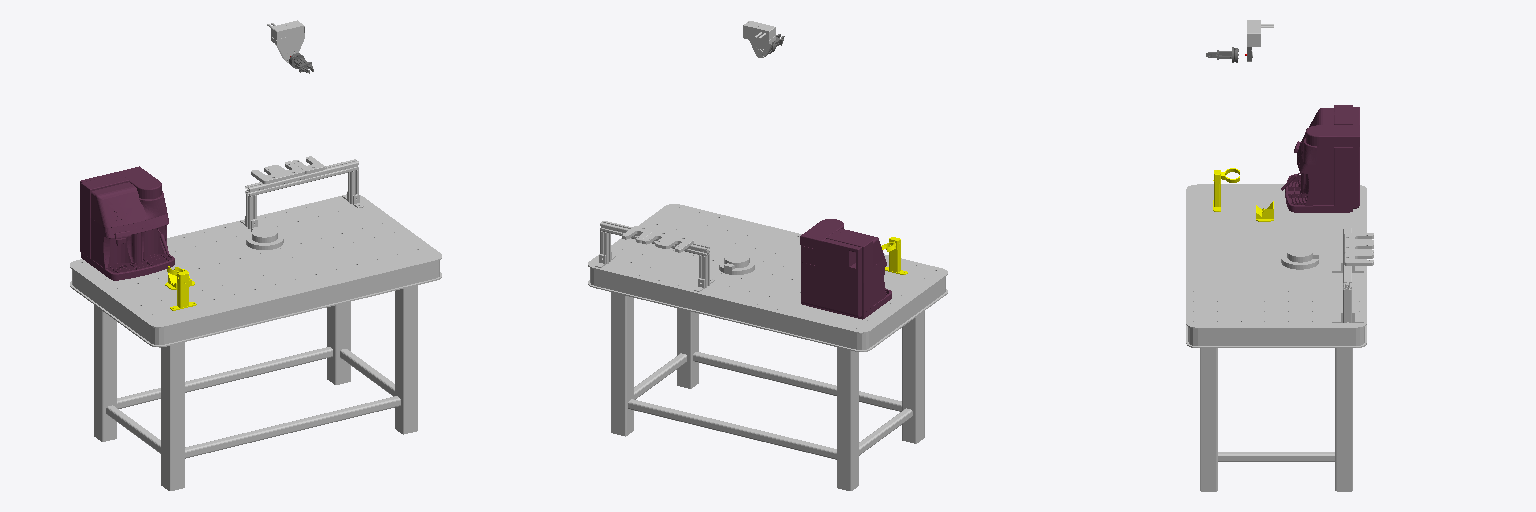
The robot description file, URDF, robot "aubo_e5":
<?xml version="1.0" ?>
<!-- =================================================================================== -->
<!-- |    This document was autogenerated by xacro from /home/mu/IVG2.0/aubo_ros2_ws/src/aubo_ros2_driver/aubo_moveit_config/config/aubo_e5.urdf.xacro | -->
<!-- |    EDITING THIS FILE BY HAND IS NOT RECOMMENDED                                 | -->
<!-- =================================================================================== -->
<robot name="aubo_e5">
  <!-- ===== 机械臂本体 (6-DOF) ===== -->
  <link name="base_link">
    <inertial>
      <origin rpy="0 0 0" xyz="-1.4795E-13 0.0015384 0.020951"/>
      <mass value="0.83419"/>
      <inertia ixx="0.0014414" ixy="7.8809E-15" ixz="8.5328E-16" iyy="0.0013542" iyz="-1.4364E-05" izz="0.0024659"/>
    </inertial>
    <visual>
      <origin rpy="0 0 0" xyz="0 0 0"/>
      <geometry>
        <mesh filename="package://aubo_description/meshes/visual/link0.dae"/>
      </geometry>
      <material name="">
        <color rgba="0.82 0.82 0.82 1"/>
      </material>
    </visual>
    <collision>
      <origin rpy="0 0 0" xyz="0 0 0"/>
      <geometry>
        <mesh filename="package://aubo_description/meshes/collision/link0.stl"/>
      </geometry>
    </collision>
  </link>
  <link name="shoulder_Link">
    <inertial>
      <origin rpy="0 0 0" xyz="0 0.0038 0.0006"/>
      <mass value="5.05"/>
      <inertia ixx="0.0148" ixy="0" ixz="0" iyy="0.0143" iyz="0" izz="0.0095"/>
    </inertial>
    <visual>
      <origin rpy="0 0 0" xyz="0 0 0"/>
      <geometry>
        <mesh filename="package://aubo_description/meshes/visual/link1.dae"/>
      </geometry>
      <material name="">
        <color rgba="0.82 0.82 0.82 1"/>
      </material>
    </visual>
    <collision>
      <origin rpy="0 0 0" xyz="0 0 0"/>
      <geometry>
        <mesh filename="package://aubo_description/meshes/collision/link1.stl"/>
      </geometry>
    </collision>
  </link>
  <joint name="shoulder_joint" type="revolute">
    <origin rpy="0 0 3.1415926535897932384626433832795" xyz="0 0 0.122"/>
    <parent link="base_link"/>
    <child link="shoulder_Link"/>
    <axis xyz="0 0 1"/>
    <limit effort="133" lower="-3.054326190990076759616458844855" start_stop="207" upper="3.054326190990076759616458844855" velocity="2.5964"/>
  </joint>
  <link name="upperArm_Link">
    <inertial>
      <origin rpy="0 0 0" xyz="0.2040 0 0.0196"/>
      <mass value="11.28"/>
      <inertia ixx="0.0305" ixy="0" ixz="0" iyy="0.4505" iyz="0" izz="0.4400"/>
    </inertial>
    <visual>
      <origin rpy="0 0 0" xyz="0 0 0"/>
      <geometry>
        <mesh filename="package://aubo_description/meshes/visual/link2.dae"/>
      </geometry>
      <material name="">
        <color rgba="0.82 0.82 0.82 1"/>
      </material>
    </visual>
    <collision>
      <origin rpy="0 0 0" xyz="0 0 0"/>
      <geometry>
        <mesh filename="package://aubo_description/meshes/collision/link2.stl"/>
      </geometry>
    </collision>
  </link>
  <joint name="upperArm_joint" type="revolute">
    <origin rpy="-1.5707963267948966192313216916398 -1.5707963267948966192313216916398 0" xyz="0 0.1215 0"/>
    <parent link="shoulder_Link"/>
    <child link="upperArm_Link"/>
    <axis xyz="0 0 1"/>
    <limit effort="133" lower="-3.054326190990076759616458844855" start_stop="207" upper="3.054326190990076759616458844855" velocity="2.5964"/>
  </joint>
  <link name="foreArm_Link">
    <inertial>
      <origin rpy="0 0 0" xyz="0.2699 0 0.0992"/>
      <mass value="2.88"/>
      <inertia ixx="0.0033" ixy="0" ixz="0" iyy="0.0575" iyz="0" izz="0.0565"/>
    </inertial>
    <visual>
      <origin rpy="0 0 0" xyz="0 0 0"/>
      <geometry>
        <mesh filename="package://aubo_description/meshes/visual/link3.dae"/>
      </geometry>
      <material name="">
        <color rgba="0.82 0.82 0.82 1"/>
      </material>
    </visual>
    <collision>
      <origin rpy="0 0 0" xyz="0 0 0"/>
      <geometry>
        <mesh filename="package://aubo_description/meshes/collision/link3.stl"/>
      </geometry>
    </collision>
  </link>
  <joint name="foreArm_joint" type="revolute">
    <origin rpy="-3.1415926535897932384626433832795 0 0" xyz="0.408 0 0"/>
    <parent link="upperArm_Link"/>
    <child link="foreArm_Link"/>
    <axis xyz="0 0 1"/>
    <limit effort="133" lower="-3.054326190990076759616458844855" start_stop="207" upper="3.054326190990076759616458844855" velocity="2.5964"/>
  </joint>
  <link name="wrist1_Link">
    <inertial>
      <origin rpy="0 0 0" xyz="0 -0.0997 -0.0780"/>
      <mass value="1.62"/>
      <inertia ixx="0.0023" ixy="0" ixz="0" iyy="0.0013" iyz="0" izz="0.0022"/>
    </inertial>
    <visual>
      <origin rpy="0 0 0" xyz="0 0 0"/>
      <geometry>
        <mesh filename="package://aubo_description/meshes/visual/link4.dae"/>
      </geometry>
      <material name="">
        <color rgba="0.82 0.82 0.82 1"/>
      </material>
    </visual>
    <collision>
      <origin rpy="0 0 0" xyz="0 0 0"/>
      <geometry>
        <mesh filename="package://aubo_description/meshes/collision/link4.stl"/>
      </geometry>
    </collision>
  </link>
  <joint name="wrist1_joint" type="revolute">
    <origin rpy="3.1415926535897932384626433832795 0 1.5707963267948966192313216916398" xyz="0.376 0 0"/>
    <parent link="foreArm_Link"/>
    <child link="wrist1_Link"/>
    <axis xyz="0 0 1"/>
    <limit effort="13.5" lower="-3.054326190990076759616458844855" start_stop="34" upper="3.054326190990076759616458844855" velocity="3.1105"/>
  </joint>
  <link name="wrist2_Link">
    <inertial>
      <origin rpy="0 0 0" xyz="0 -0.0028 -0.0030"/>
      <mass value="1.62"/>
      <inertia ixx="0.0023" ixy="0" ixz="0" iyy="0.0013" iyz="0" izz="0.0022"/>
    </inertial>
    <visual>
      <origin rpy="0 0 0" xyz="0 0 0"/>
      <geometry>
        <mesh filename="package://aubo_description/meshes/visual/link5.dae"/>
      </geometry>
      <material name="">
        <color rgba="0.82 0.82 0.82 1"/>
      </material>
    </visual>
    <collision>
      <origin rpy="0 0 0" xyz="0 0 0"/>
      <geometry>
        <mesh filename="package://aubo_description/meshes/collision/link5.stl"/>
      </geometry>
    </collision>
  </link>
  <joint name="wrist2_joint" type="revolute">
    <origin rpy="-1.5707963267948966192313216916398 0 0" xyz="0 0.1025 0"/>
    <parent link="wrist1_Link"/>
    <child link="wrist2_Link"/>
    <axis xyz="0 0 1"/>
    <limit effort="13.5" lower="-3.054326190990076759616458844855" start_stop="34" upper="3.054326190990076759616458844855" velocity="3.1105"/>
  </joint>
  <link name="wrist3_Link">
    <inertial>
      <origin rpy="0 0 0" xyz="0 0 -0.0442"/>
      <mass value="0.5"/>
      <inertia ixx="0.00139395" ixy="0" ixz="0" iyy="0.00139882" iyz="0" izz="0.00224092"/>
    </inertial>
    <visual>
      <origin rpy="0 0 0" xyz="0 0 0"/>
      <geometry>
        <mesh filename="package://aubo_description/meshes/visual/link6.dae"/>
      </geometry>
      <material name="">
        <color rgba="0.82 0.82 0.82 1"/>
      </material>
    </visual>
    <collision>
      <origin rpy="0 0 0" xyz="0 0 0"/>
      <geometry>
        <mesh filename="package://aubo_description/meshes/collision/link6.stl"/>
      </geometry>
    </collision>
  </link>
  <joint name="wrist3_joint" type="revolute">
    <origin rpy="1.5707963267948966192313216916398 0 1.7907E-15" xyz="0 -0.094 0"/>
    <parent link="wrist2_Link"/>
    <child link="wrist3_Link"/>
    <axis xyz="0 0 1"/>
    <limit effort="13.5" lower="-3.054326190990076759616458844855" start_stop="34" upper="3.054326190990076759616458844855" velocity="3.1105"/>
  </joint>
  <link name="world"/>
  <!-- ===== 底座（咖啡机总装模型 pedestal_Link） ===== -->
  <link name="pedestal_Link">
    <inertial>
      <origin rpy="0 0 0" xyz="0.0024005 -0.14873 -0.0020194"/>
      <mass value="180.93"/>
      <inertia ixx="10.702" ixy="6.7618E-17" ixz="3.0187E-14" iyy="41.01" iyz="1.466E-07" izz="32.457"/>
    </inertial>
    <visual>
      <origin rpy="0 0 0" xyz="0 0 0"/>
      <geometry>
        <mesh filename="package://tool_changer/meshes/visual/pedestal_link.stl"/>
      </geometry>
      <material name="">
        <color rgba="0.82 0.82 0.82 1"/>
      </material>
    </visual>
    <collision>
      <origin rpy="0 0 0" xyz="0 0 0"/>
      <geometry>
        <mesh filename="package://tool_changer/meshes/collision/pedestal_link.stl"/>
      </geometry>
    </collision>
  </link>
  <joint name="world_to_pedestal" type="fixed">
    <parent link="world"/>
    <child link="pedestal_Link"/>
    <origin rpy="0.0 0.0 0.0" xyz="0.0 0.0 0.0"/>
  </joint>
  <joint name="base_joint" type="fixed">
    <origin rpy="0 0 0" xyz="0.10483 0.10483 0.028"/>
    <parent link="pedestal_Link"/>
    <child link="base_link"/>
  </joint>
  <!-- ===== 咖啡机总装模型配件 ===== -->
  <link name="cup0_Link">
    <inertial>
      <origin rpy="0 0 0" xyz="0.0459046653140415 0.0335578409178754 0.00298286778797363"/>
      <mass value="1.42763211505643"/>
      <inertia ixx="0.00133864759857838" ixy="-0.000153798571779387" ixz="-3.31742934007893E-05" iyy="0.00208448111254178" iyz="-3.67284842420613E-05" izz="0.0011896985575748"/>
    </inertial>
    <visual>
      <origin rpy="0 0 0" xyz="0 0 0"/>
      <geometry>
        <mesh filename="package://tool_changer/meshes/visual/cup0_link.stl"/>
      </geometry>
      <material name="">
        <color rgba="1 1 0 1"/>
      </material>
    </visual>
    <collision>
      <origin rpy="0 0 0" xyz="0 0 0"/>
      <geometry>
        <mesh filename="package://tool_changer/meshes/collision/cup0_link.stl"/>
      </geometry>
    </collision>
  </link>
  <joint name="cup0_joint" type="fixed">
    <origin rpy="1.5708 0 1.5708" xyz="-0.4225 -0.0925 -0.012"/>
    <parent link="pedestal_Link"/>
    <child link="cup0_Link"/>
  </joint>
  <link name="lizhu_Link">
    <inertial>
      <origin rpy="0 0 0" xyz="0.012277 0.082104 1.7053E-05"/>
      <mass value="0.86598"/>
      <inertia ixx="0.0014347" ixy="1.5778E-05" ixz="1.1895E-08" iyy="0.00066764" iyz="3.1238E-05" izz="0.0012088"/>
    </inertial>
    <visual>
      <origin rpy="0 0 0" xyz="0 0 0"/>
      <geometry>
        <mesh filename="package://tool_changer/meshes/visual/lizhu_link.stl"/>
      </geometry>
      <material name="">
        <color rgba="1 1 0 1"/>
      </material>
    </visual>
    <collision>
      <origin rpy="0 0 0" xyz="0 0 0"/>
      <geometry>
        <mesh filename="package://tool_changer/meshes/collision/lizhu_link.stl"/>
      </geometry>
    </collision>
  </link>
  <joint name="lizhu_joint" type="fixed">
    <origin rpy="1.5708 0 1.5708" xyz="-0.525 -0.2625 0.006"/>
    <parent link="pedestal_Link"/>
    <child link="lizhu_Link"/>
  </joint>
  <link name="coffee_Link">
    <inertial>
      <origin rpy="0 0 0" xyz="0.01588 0.20584 0.0021911"/>
      <mass value="91.454"/>
      <inertia ixx="0.89876" ixy="0.0020091" ixz="-0.10749" iyy="1.0151" iyz="0.023803" izz="0.44104"/>
    </inertial>
    <visual>
      <origin rpy="0 0 0" xyz="0 0 0"/>
      <geometry>
        <mesh filename="package://tool_changer/meshes/visual/coffee_link.stl"/>
      </geometry>
      <material name="">
        <color rgba="0.42745 0.24706 0.35686 1"/>
      </material>
    </visual>
    <collision>
      <origin rpy="0 0 0" xyz="0 0 0"/>
      <geometry>
        <mesh filename="package://tool_changer/meshes/collision/coffee_link.stl"/>
      </geometry>
    </collision>
  </link>
  <joint name="coffee_joint" type="fixed">
    <origin rpy="1.5708 0 1.5708" xyz="-0.53995 0.20318 0.046"/>
    <parent link="pedestal_Link"/>
    <child link="coffee_Link"/>
  </joint>
  <!-- ===== 末端执行器: 相机 ===== -->
  <link name="camera_Link">
    <inertial>
      <origin rpy="0 0 0" xyz="-0.0005963 0.085972 -0.026401"/>
      <mass value="0.72743"/>
      <inertia ixx="0.00064649" ixy="2.7688E-06" ixz="-2.0272E-05" iyy="0.0013072" iyz="8.2399E-05" izz="0.0014971"/>
    </inertial>
    <visual>
      <origin rpy="0 0 0" xyz="0 0 0"/>
      <geometry>
        <mesh filename="package://tool_changer/meshes/visual/camera_link.stl"/>
      </geometry>
      <material name="">
        <color rgba="0.82 0.82 0.82 1"/>
      </material>
    </visual>
    <collision>
      <origin rpy="0 0 0" xyz="0 0 0"/>
      <geometry>
        <mesh filename="package://tool_changer/meshes/collision/camera_link.stl"/>
      </geometry>
    </collision>
  </link>
  <joint name="camera_joint" type="fixed">
    <origin rpy="0.0 0.0 0.0" xyz="0.0 0.0 0.020"/>
    <parent link="wrist3_Link"/>
    <child link="camera_Link"/>
  </joint>
  <!-- ===== 末端执行器: 快换法兰 ===== -->
  <link name="kuaihuan_Link">
    <inertial>
      <origin rpy="0 0 0" xyz="-0.00074639 7.4616E-05 0.0097884"/>
      <mass value="0.21939"/>
      <inertia ixx="6.3771E-05" ixy="4.2875E-07" ixz="-1.7848E-07" iyy="6.9403E-05" iyz="-4.5085E-07" izz="0.0001149"/>
    </inertial>
    <visual>
      <origin rpy="0 0 0" xyz="0 0 0"/>
      <geometry>
        <mesh filename="package://tool_changer/meshes/visual/kuaihuan_link.stl"/>
      </geometry>
      <material name="">
        <color rgba="0.82 0.82 0.82 1"/>
      </material>
    </visual>
    <collision>
      <origin rpy="0 0 0" xyz="0 0 0"/>
      <geometry>
        <mesh filename="package://tool_changer/meshes/collision/kuaihuan_link.stl"/>
      </geometry>
    </collision>
  </link>
  <joint name="kuaihuan_joint" type="fixed">
    <origin rpy="0 0 3.1416" xyz="0 0 0.0215"/>
    <parent link="camera_Link"/>
    <child link="kuaihuan_Link"/>
  </joint>
  <link name="gripper0_Link">
    <visual>
      <origin rpy="0 0 0" xyz="0 0 0"/>
      <geometry>
        <mesh filename="package://tool_changer/meshes/visual/gripper0_link.stl"/>
      </geometry>
      <material name="gripper0_material">
        <color rgba="0.5 0.5 0.5 1.0"/>
      </material>
    </visual>
    <collision>
      <origin rpy="0 0 0" xyz="0 0 0"/>
      <geometry>
        <mesh filename="package://tool_changer/meshes/collision/gripper0_link.stl"/>
      </geometry>
    </collision>
  </link>
  <joint name="kuaihuan_to_gripper0" type="fixed">
    <parent link="kuaihuan_Link"/>
    <child link="gripper0_Link"/>
    <origin rpy="0 0 0" xyz="0 0 0.02"/>
  </joint>
  <!-- Tool Center Point -->
  <link name="tool_tcp">
    <visual>
      <origin rpy="0 0 0" xyz="0 0 0"/>
      <geometry>
        <sphere radius="0.005"/>
      </geometry>
      <material name="tcp_marker">
        <color rgba="1.0 0.0 0.0 1.0"/>
      </material>
    </visual>
  </link>
  <joint name="wrist3_to_tcp" type="fixed">
    <parent link="wrist3_Link"/>
    <child link="tool_tcp"/>
    <origin rpy="0.0 0.0 0.0" xyz="0.0 0.0 0.0235"/>
  </joint>
  <transmission name="shoulder_joint_trans">
    <type>transmission_interface/SimpleTransmission</type>
    <joint name="shoulder_joint">
      <hardwareInterface>hardware_interface/PositionJointInterface</hardwareInterface>
    </joint>
    <actuator name="shoulder_joint_motor">
      <mechanicalReduction>1</mechanicalReduction>
    </actuator>
  </transmission>
  <transmission name="upperArm_joint_trans">
    <type>transmission_interface/SimpleTransmission</type>
    <joint name="upperArm_joint">
      <hardwareInterface>hardware_interface/PositionJointInterface</hardwareInterface>
    </joint>
    <actuator name="upperArm_joint_motor">
      <mechanicalReduction>1</mechanicalReduction>
    </actuator>
  </transmission>
  <transmission name="foreArm_joint_trans">
    <type>transmission_interface/SimpleTransmission</type>
    <joint name="foreArm_joint">
      <hardwareInterface>hardware_interface/PositionJointInterface</hardwareInterface>
    </joint>
    <actuator name="foreArm_joint_motor">
      <mechanicalReduction>1</mechanicalReduction>
    </actuator>
  </transmission>
  <transmission name="wrist1_joint_trans">
    <type>transmission_interface/SimpleTransmission</type>
    <joint name="wrist1_joint">
      <hardwareInterface>hardware_interface/PositionJointInterface</hardwareInterface>
    </joint>
    <actuator name="wrist1_joint_motor">
      <mechanicalReduction>1</mechanicalReduction>
    </actuator>
  </transmission>
  <transmission name="wrist2_joint_trans">
    <type>transmission_interface/SimpleTransmission</type>
    <joint name="wrist2_joint">
      <hardwareInterface>hardware_interface/PositionJointInterface</hardwareInterface>
    </joint>
    <actuator name="wrist2_joint_motor">
      <mechanicalReduction>1</mechanicalReduction>
    </actuator>
  </transmission>
  <transmission name="wrist3_joint_trans">
    <type>transmission_interface/SimpleTransmission</type>
    <joint name="wrist3_joint">
      <hardwareInterface>hardware_interface/PositionJointInterface</hardwareInterface>
    </joint>
    <actuator name="wrist3_joint_motor">
      <mechanicalReduction>1</mechanicalReduction>
    </actuator>
  </transmission>
  <ros2_control name="auboHardwareInterface" type="system">
    <hardware>
      <plugin>fake_components/GenericSystem</plugin>
      <param name="fake_sensor_commands">False</param>
      <param name="state_following_offset">0.0</param>
    </hardware>
    <joint name="shoulder_joint">
      <command_interface name="position">
        <param name="min">-3.05</param>
        <param name="max">3.05</param>
      </command_interface>
      <state_interface name="position"/>
      <state_interface name="velocity"/>
    </joint>
    <joint name="upperArm_joint">
      <command_interface name="position">
        <param name="min">-3.05</param>
        <param name="max">3.05</param>
      </command_interface>
      <state_interface name="position"/>
      <state_interface name="velocity"/>
    </joint>
    <joint name="foreArm_joint">
      <command_interface name="position">
        <param name="min">-3.05</param>
        <param name="max">3.05</param>
      </command_interface>
      <state_interface name="position"/>
      <state_interface name="velocity"/>
    </joint>
    <joint name="wrist1_joint">
      <command_interface name="position">
        <param name="min">-3.05</param>
        <param name="max">3.05</param>
      </command_interface>
      <state_interface name="position"/>
      <state_interface name="velocity"/>
    </joint>
    <joint name="wrist2_joint">
      <command_interface name="position">
        <param name="min">-3.05</param>
        <param name="max">3.05</param>
      </command_interface>
      <state_interface name="position"/>
      <state_interface name="velocity"/>
    </joint>
    <joint name="wrist3_joint">
      <command_interface name="position">
        <param name="min">-3.05</param>
        <param name="max">3.05</param>
      </command_interface>
      <state_interface name="position"/>
      <state_interface name="velocity"/>
    </joint>
  </ros2_control>
</robot>

--- Render facts (derived) ---
Views: 3 orthographic renders of the robot side by side, from view 1: azimuth 30°, elevation 25°; view 2: azimuth 150°, elevation 25°; view 3: azimuth 270°, elevation 25°.
Robot: aubo_e5 — 16 links, 15 joints (6 revolute, 9 fixed); root link world; default pose: every joint at zero.
Links seen in each view (by area): view 1: pedestal_Link, coffee_Link, camera_Link, base_link, lizhu_Link; view 2: pedestal_Link, coffee_Link, camera_Link, base_link; view 3: pedestal_Link, coffee_Link, base_link.
Boxes of the visible links, bbox=[...] form: pedestal_Link: bbox=[70, 156, 441, 490]; coffee_Link: bbox=[80, 166, 174, 280]; camera_Link: bbox=[267, 20, 304, 62]; base_link: bbox=[246, 226, 283, 249]; lizhu_Link: bbox=[167, 266, 196, 310]; pedestal_Link: bbox=[588, 204, 947, 490]; coffee_Link: bbox=[800, 219, 891, 319]; camera_Link: bbox=[743, 21, 775, 57]; base_link: bbox=[719, 252, 754, 274]; pedestal_Link: bbox=[1186, 184, 1373, 491]; coffee_Link: bbox=[1281, 105, 1359, 212]; base_link: bbox=[1281, 246, 1318, 269].
Bounding box of the posed robot: 1.5 × 0.83 × 2.02 m (x, y, z).
Meshes: 14 distinct files referenced, 7 mesh visuals loaded (6 binary STL, 1 Collada DAE); not drawn: 7 (reference not matched to a file when rendering).
